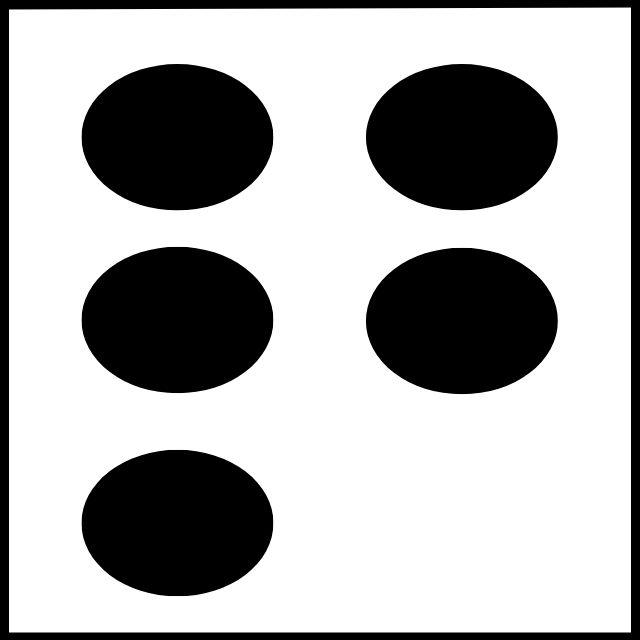one_cell_alphabet_kailan: (81, 64, 558, 596)
